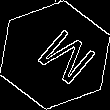M_SW: (19, 21, 91, 89)
